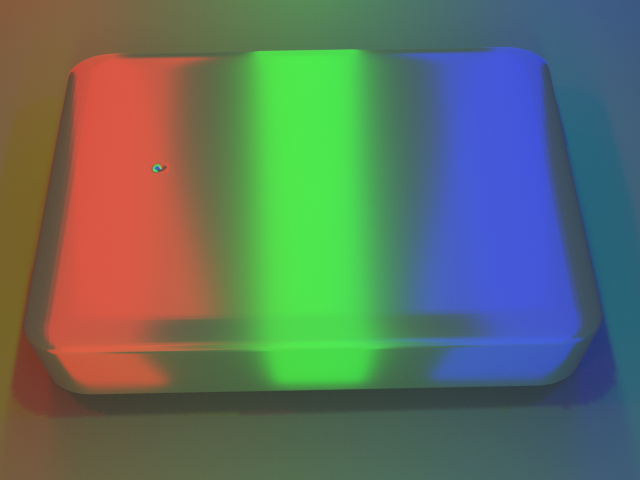dent: (124, 146, 161, 178)
